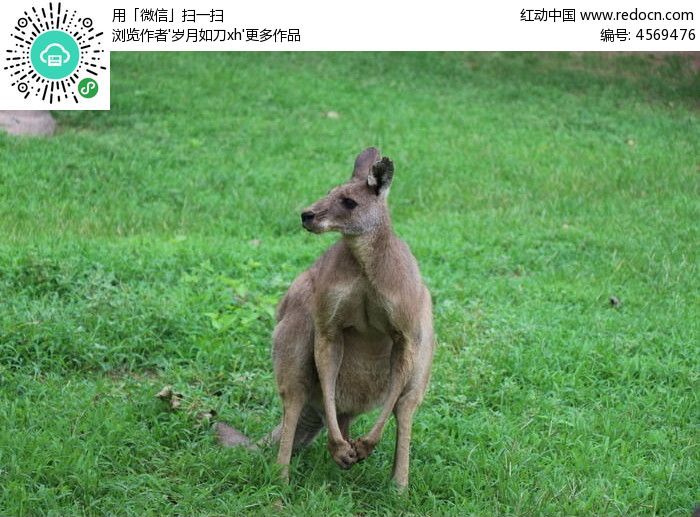kangaroo: (191, 147, 432, 503)
